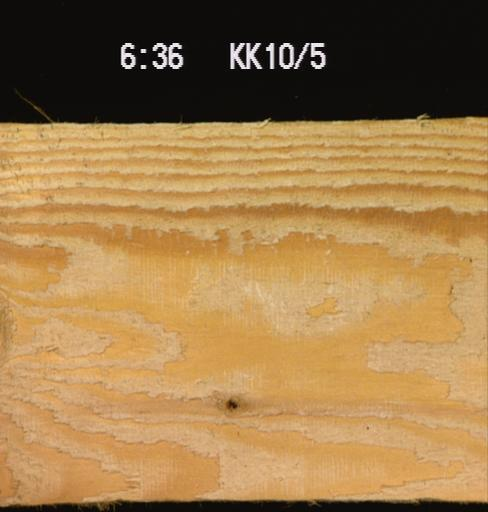small_knot: (217, 388, 241, 417)
